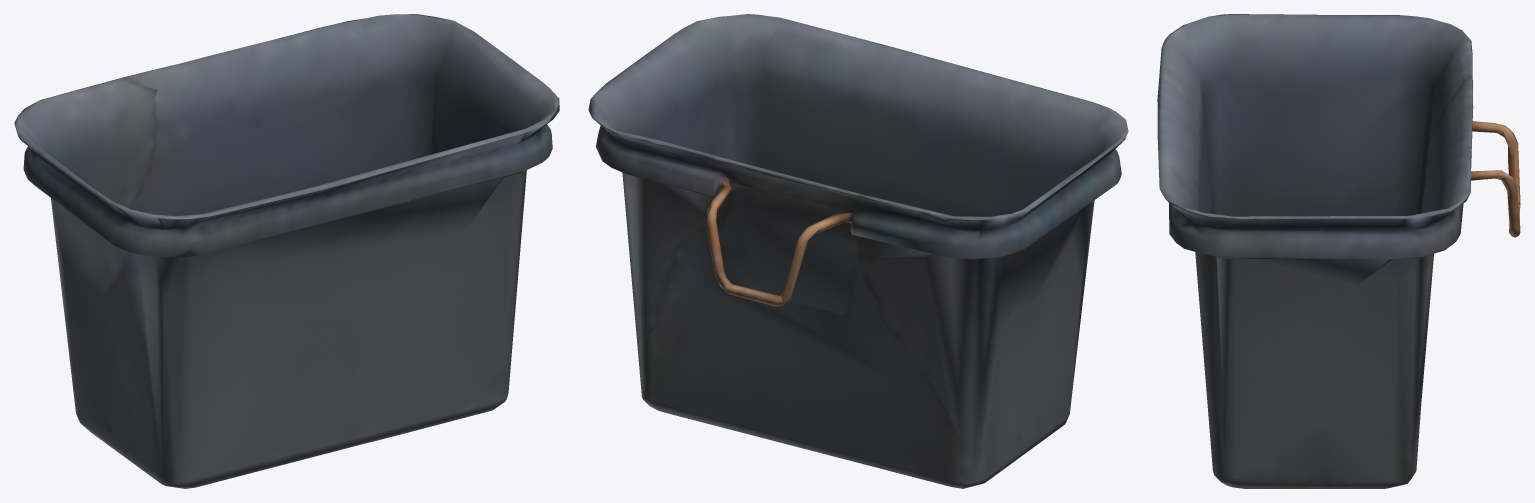
The model's file is Full_Circle_Happy_Scraps_Out_Collector_Gray-medium.glb.
3 renders of one model, left to right at view 1: azimuth 30°, elevation 25°; view 2: azimuth 150°, elevation 25°; view 3: azimuth 270°, elevation 25°, orthographic. The views are drawn at different scales.
Parts seen in each view (by area): view 1: Full_Circle_Happy_Scraps_Out_Collector_Gray; view 2: Full_Circle_Happy_Scraps_Out_Collector_Gray; view 3: Full_Circle_Happy_Scraps_Out_Collector_Gray.
Boxes of the visible parts, x1,y1,x2,y2 form: Full_Circle_Happy_Scraps_Out_Collector_Gray: (14, 14, 559, 488); Full_Circle_Happy_Scraps_Out_Collector_Gray: (588, 14, 1128, 488); Full_Circle_Happy_Scraps_Out_Collector_Gray: (1157, 14, 1520, 488).
Bounding box in the file's own units: 0.2129 × 0.1428 × 0.1549.
1 material, 1 textured.
